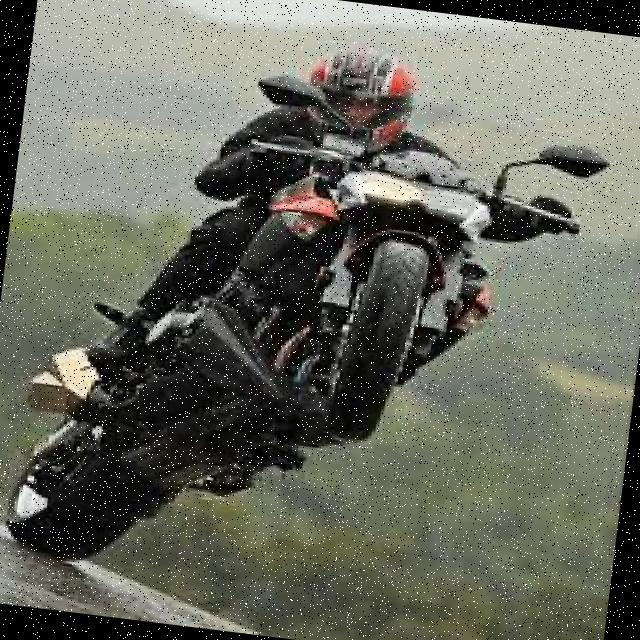Wheeling: (38, 1, 553, 640)
